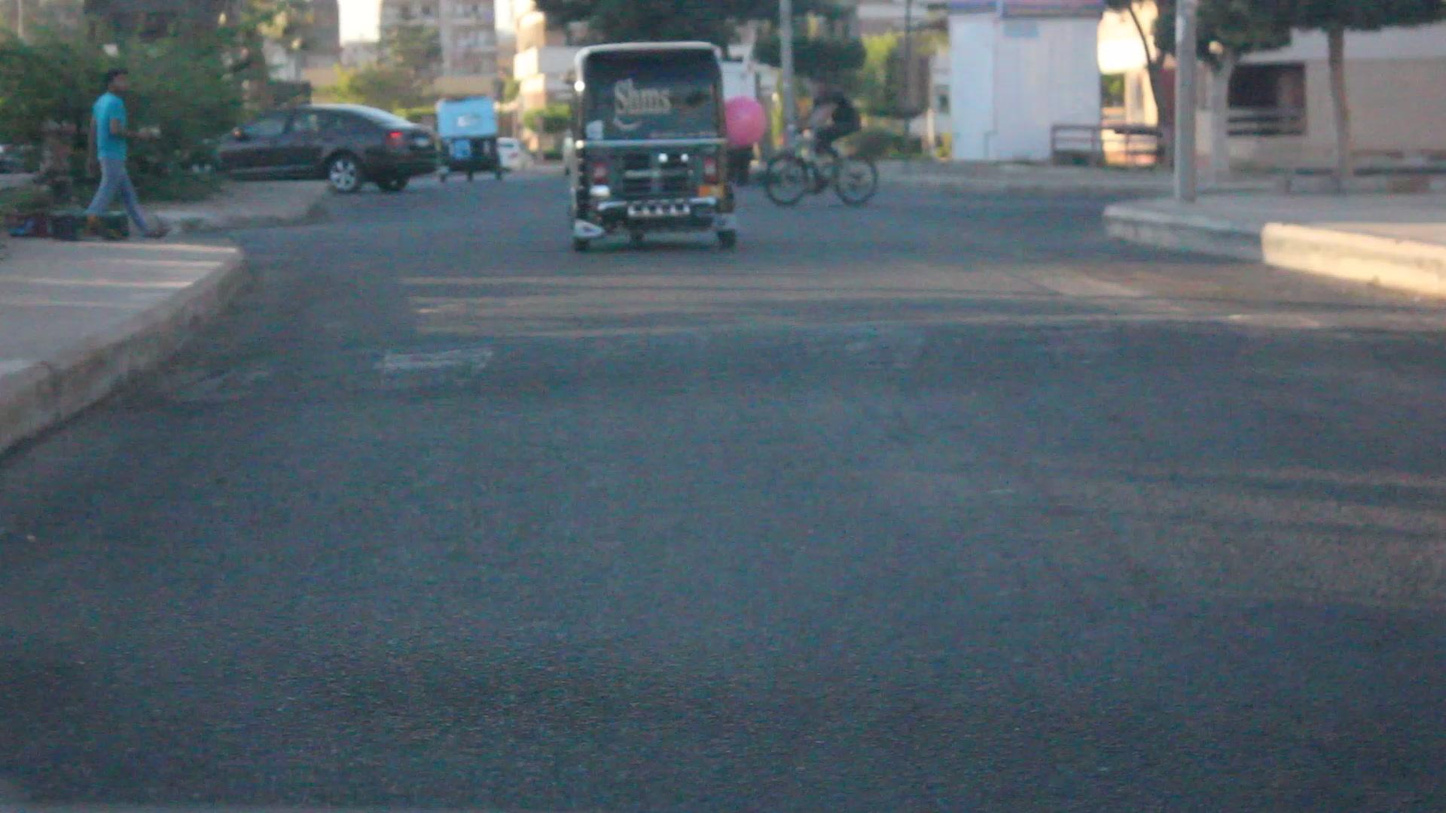Bump: (181, 314, 1446, 414)
